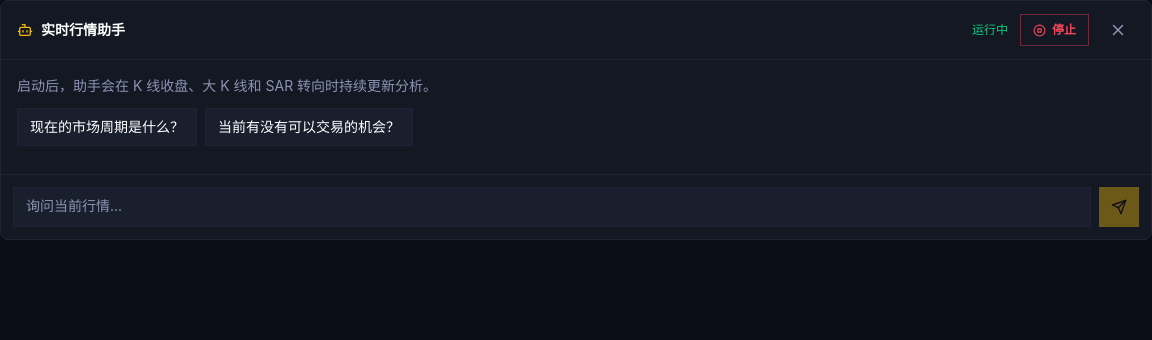
MarketAiPanel › sends a quick question with a client id and supports a 202 queued response
The width and height of the screenshot is (1152, 340).
Click the button "现在的市场周期是什么？". click: (107, 127)
box: [17,108,197,146]
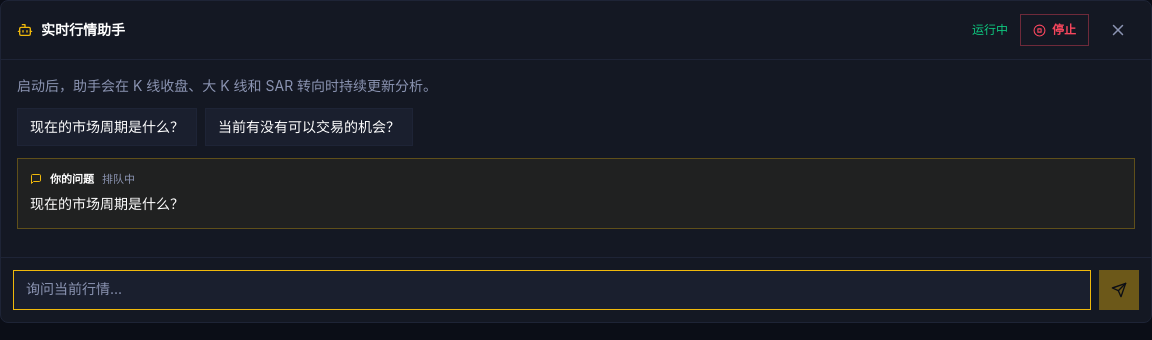
Expected: the text "排队中" is shown, [102,171,135,188]
